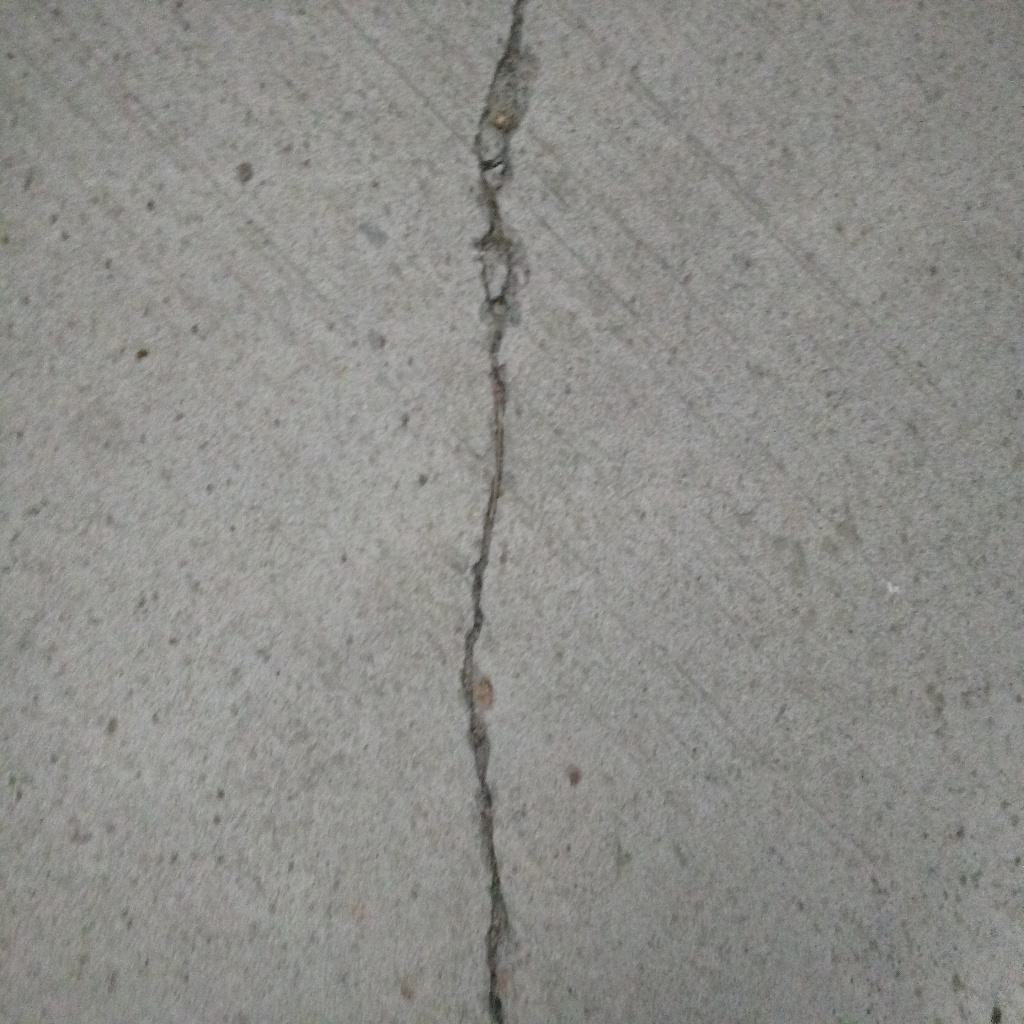Crack: (458, 1, 539, 1024)
